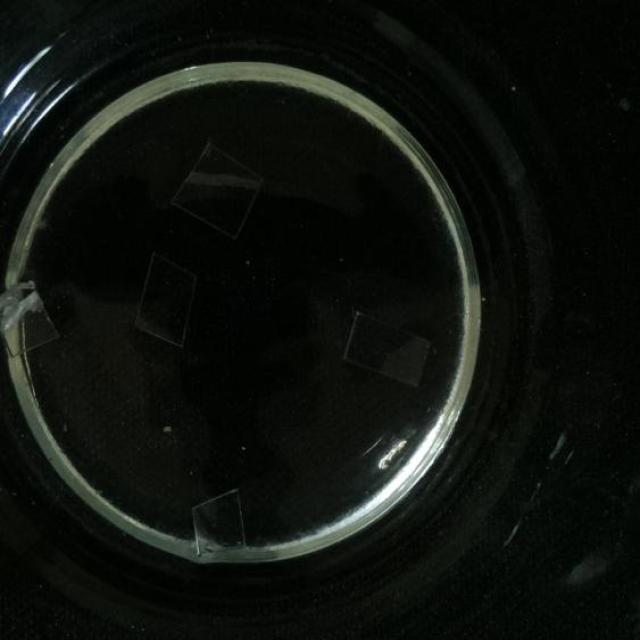fiber: (172, 144, 264, 237), (344, 313, 426, 386), (132, 249, 193, 345), (0, 277, 57, 359), (193, 494, 244, 559), (566, 559, 620, 592), (610, 86, 632, 118), (506, 84, 522, 92)
